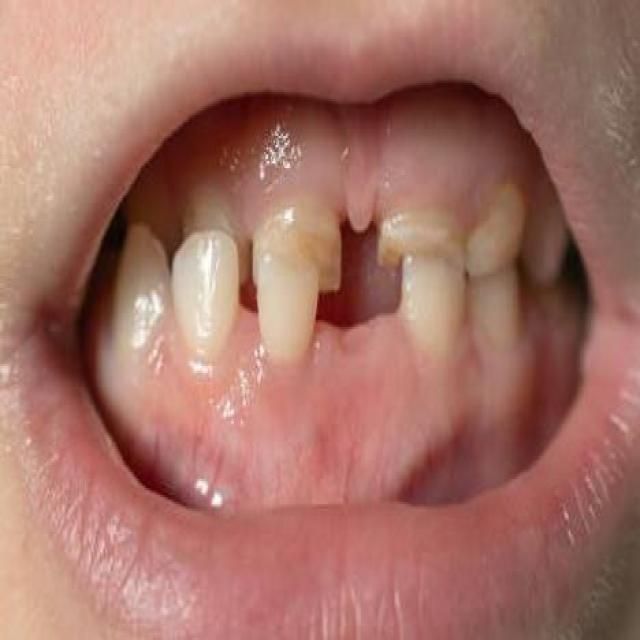caries: (378, 196, 467, 275), (280, 198, 340, 297)
